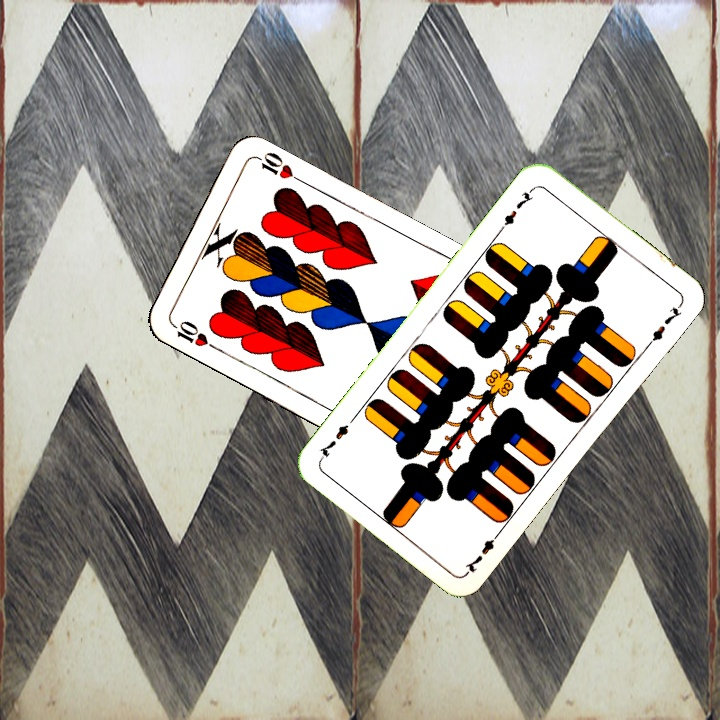E7: (460, 526, 504, 576), (496, 184, 538, 234)
H10: (166, 316, 220, 353)
